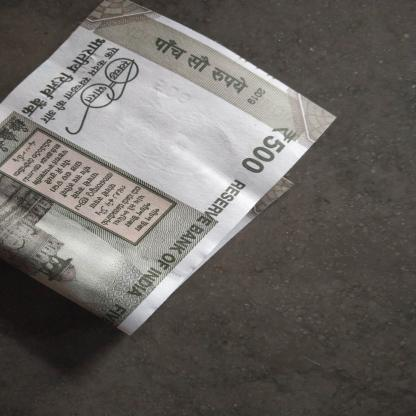New500Back: (2, 4, 296, 329)
